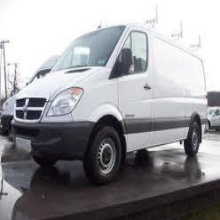no damage: (11, 23, 208, 184)
